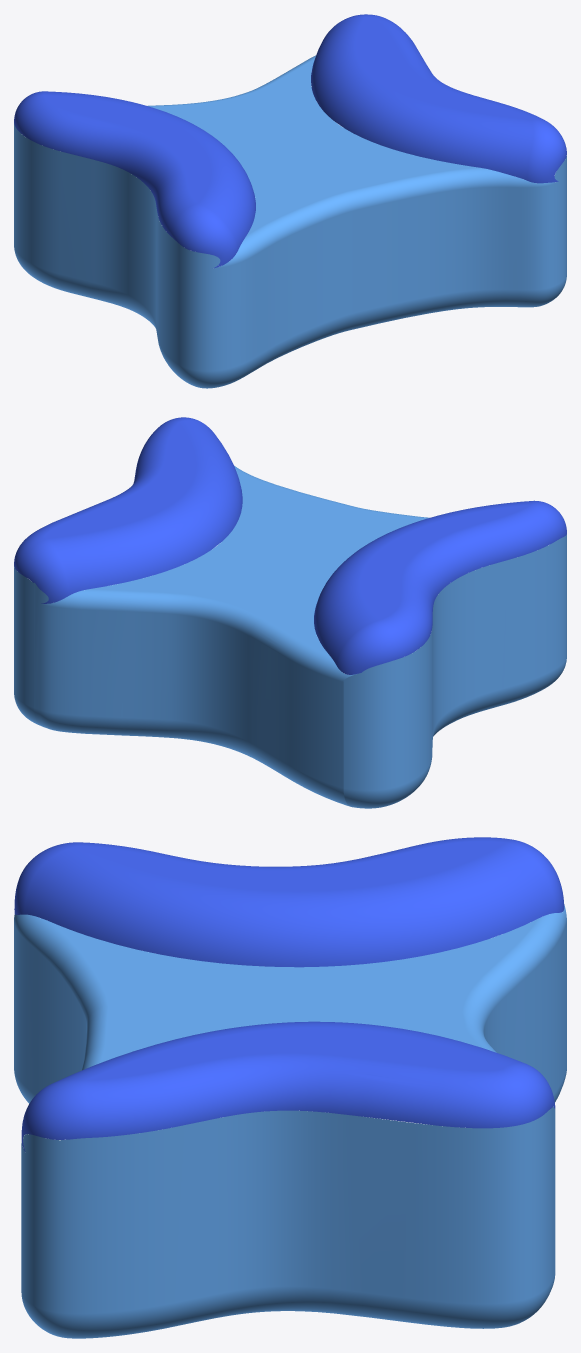
Rendered from Blue thingy - geen knip (1).glb.
The picture shows the model from 3 angles, top to bottom: view 1: azimuth 30°, elevation 25°; view 2: azimuth 150°, elevation 25°; view 3: azimuth 270°, elevation 25°; orthographic projection. The views are drawn at different scales.
Bounding box in the file's own units: 0.0443 × 0.019 × 0.0375.
